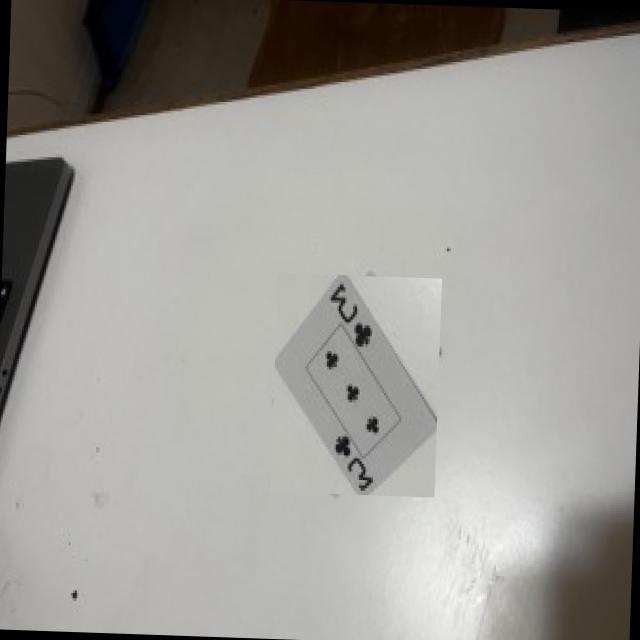3 of clubs: (275, 274, 437, 493)
